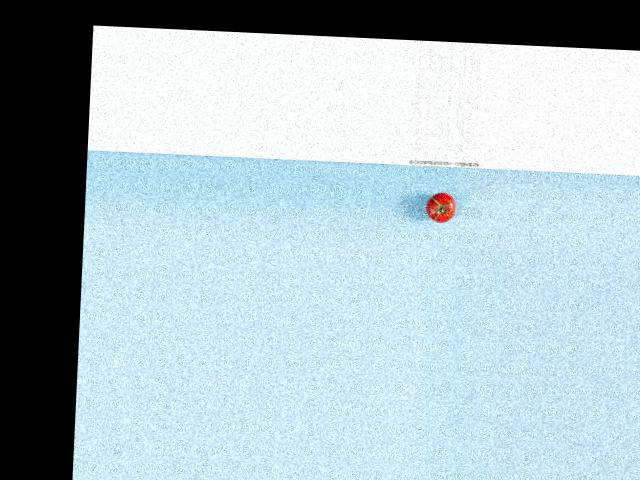tomato: (426, 190, 456, 222)
